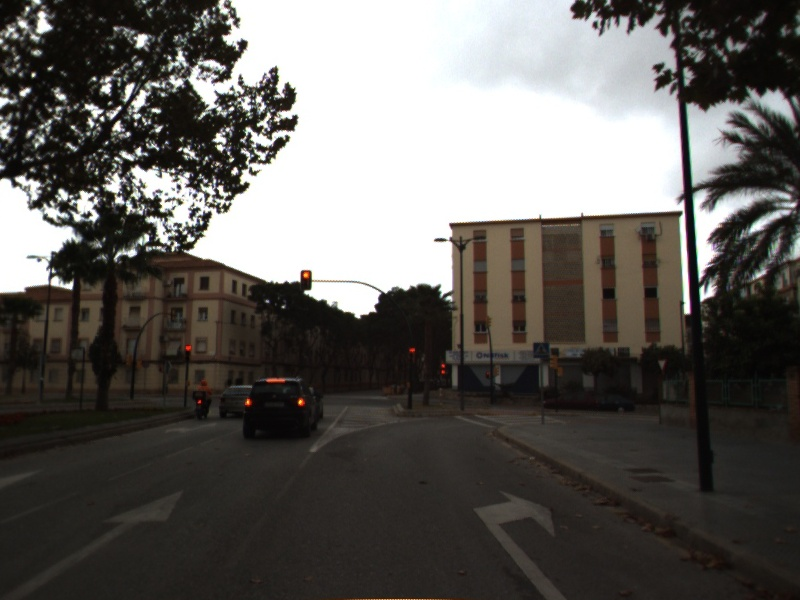RIGHT: (469, 486, 568, 600)
STRAIGHT: (1, 486, 188, 600)
